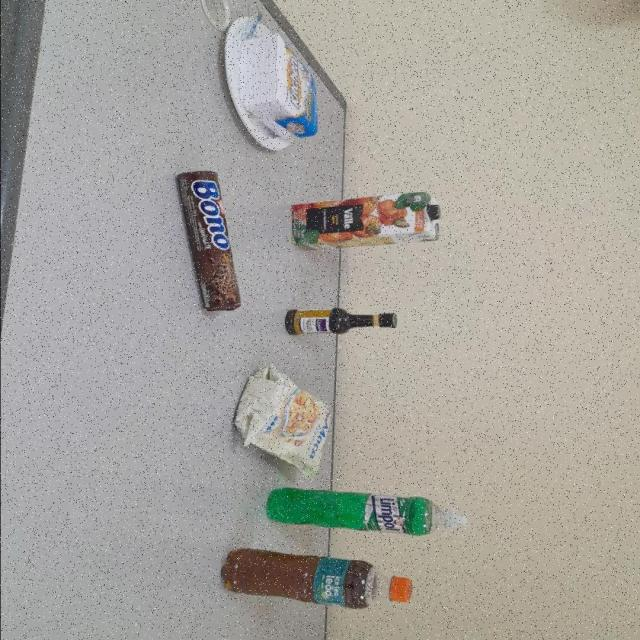Cleaner: (262, 487, 466, 536)
Cookies: (173, 170, 238, 313)
CornFlakes: (230, 363, 326, 478)
EnglishSauce: (287, 310, 396, 336)
IceTea: (216, 548, 412, 609)
